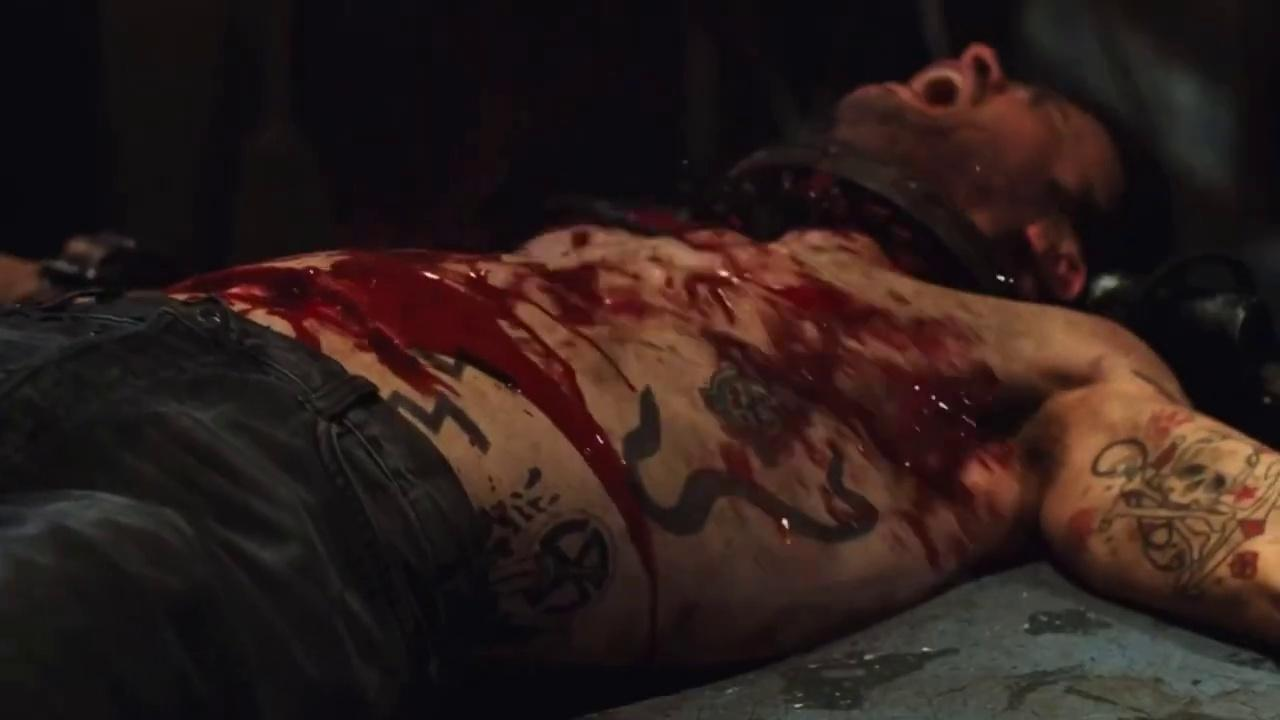Fire: (184, 226, 1040, 602)
